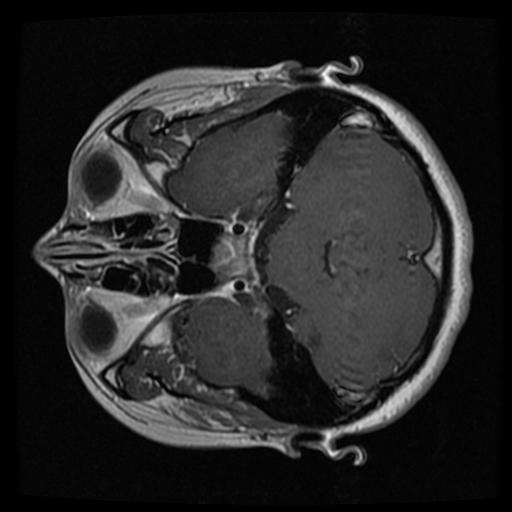pituitary tumour: (209, 234, 249, 280)
